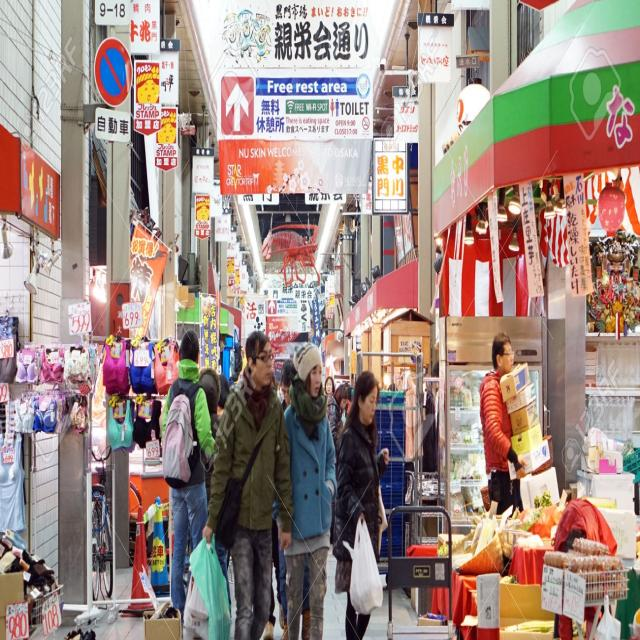body: (200, 326, 294, 639), (269, 335, 338, 639), (160, 326, 216, 615), (331, 369, 390, 640), (478, 330, 528, 516), (129, 56, 178, 174), (217, 2, 274, 72), (326, 383, 349, 546), (198, 366, 222, 519), (263, 522, 288, 638), (226, 253, 252, 316), (322, 371, 354, 418), (401, 363, 417, 454), (272, 354, 292, 412), (192, 190, 211, 240), (347, 196, 362, 255), (216, 368, 232, 412), (322, 282, 339, 322), (430, 360, 440, 391), (386, 383, 399, 392)
